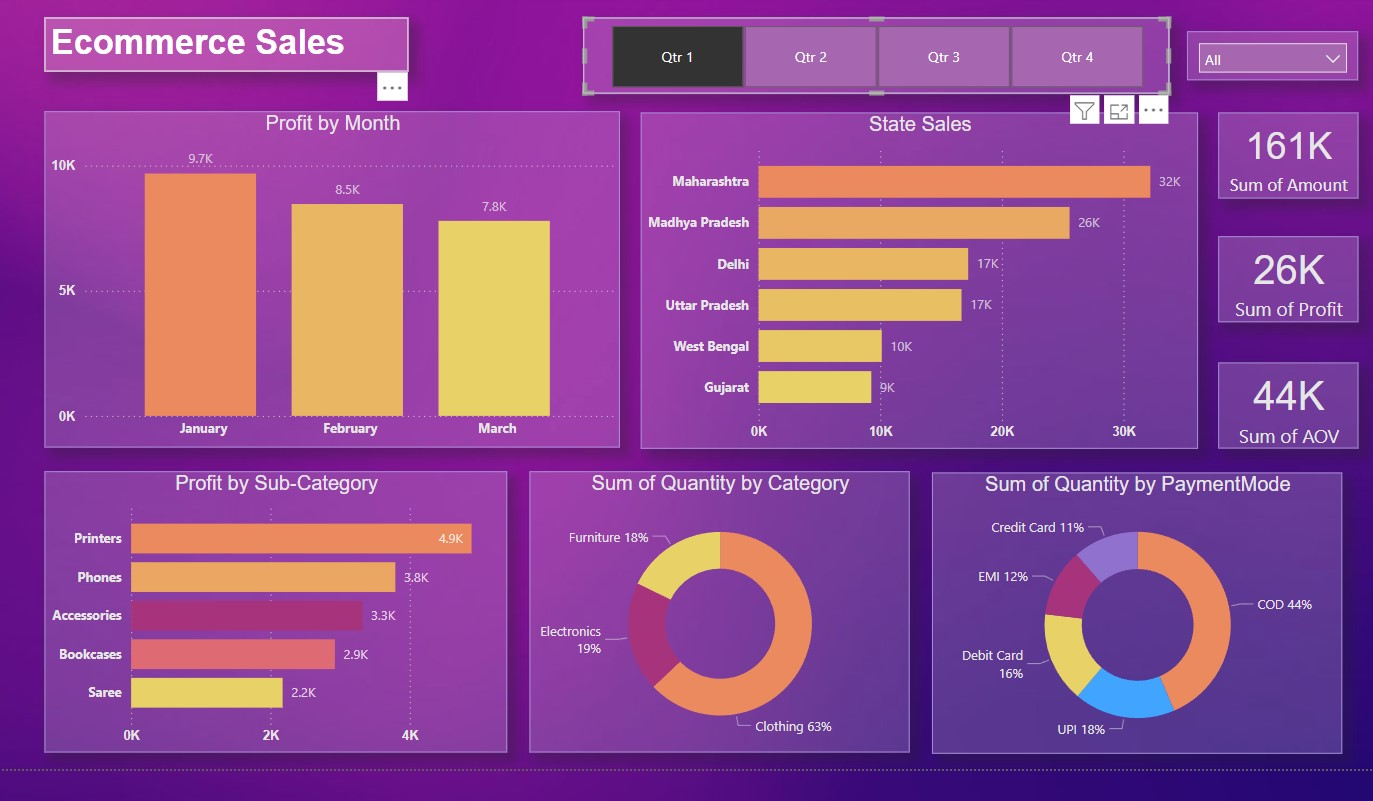

This screenshot's page, from the dashboard's own definition file:
{"tool":"powerbi","page":{"name":"Page 1","canvas":[1280,720],"ordinal":0},"visuals":[{"type":"textbox","box":[44.2,20.9,338.4,50],"z":0},{"type":"columnChart","title":"Profit by Month","fields":{"Y":["Sum(Details.Profit)"],"Category":["Orders.Order Date.Variation.Date Hierarchy.Month"]},"box":[44.2,108.1,534.9,312.8],"z":1000},{"type":"barChart","title":"Profit by Sub-Category","fields":{"Y":["Sum(Details.Profit)"],"Category":["Details.Sub-Category"]},"box":[44.2,443,430.2,261.6],"z":2000},{"type":"donutChart","fields":{"Category":["Details.Category"],"Y":["Sum(Details.Quantity)"]},"box":[495.4,443,353.5,261.6],"z":3000},{"type":"donutChart","fields":{"Category":["Details.PaymentMode"],"Y":["Sum(Details.Quantity)"]},"box":[869.8,444.2,381.4,261.6],"z":4000},{"type":"card","fields":{"Values":["Sum(Details.Amount)"]},"box":[1136,109.3,130.2,80.2],"z":5000},{"type":"card","fields":{"Values":["Sum(Details.Profit)"]},"box":[1136,224.4,130.2,80.2],"z":6000},{"type":"card","fields":{"Values":["Sum(Details.AOV)"]},"box":[1136,341.9,130.2,80.2],"z":7000},{"type":"barChart","title":"State Sales","fields":{"Category":["Orders.State"],"Y":["Sum(Details.Amount)"]},"box":[598.8,109.3,518.6,312.8],"z":8000},{"type":"slicer","fields":{"Values":["Orders.Order Date.Variation.Date Hierarchy.Quarter"]},"box":[545.4,20.9,545.4,70.9],"z":9000},{"type":"slicer","fields":{"Values":["Orders.State"]},"box":[1107,33.7,159.3,45.3],"z":10000}]}

Visuals, with their boxes on the page's 1280x720 design canvas (x1, y1, x2, y2). These are canvas units, not pixel positions in the 1373x801 screenshot, which may show the page scaled, cropped or inside an application window:
textbox: [44,21,383,71]
"Profit by Month" columnChart: [44,108,579,421]
"Profit by Sub-Category" barChart: [44,443,474,705]
donutChart - Details.Category x Sum(Details.Quantity): [495,443,849,705]
donutChart - Details.PaymentMode x Sum(Details.Quantity): [870,444,1251,706]
card - Sum(Details.Amount): [1136,109,1266,190]
card - Sum(Details.Profit): [1136,224,1266,305]
card - Sum(Details.AOV): [1136,342,1266,422]
"State Sales" barChart: [599,109,1117,422]
slicer - Orders.Order Date.Variation.Date Hierarchy.Quarter: [545,21,1091,92]
slicer - Orders.State: [1107,34,1266,79]
